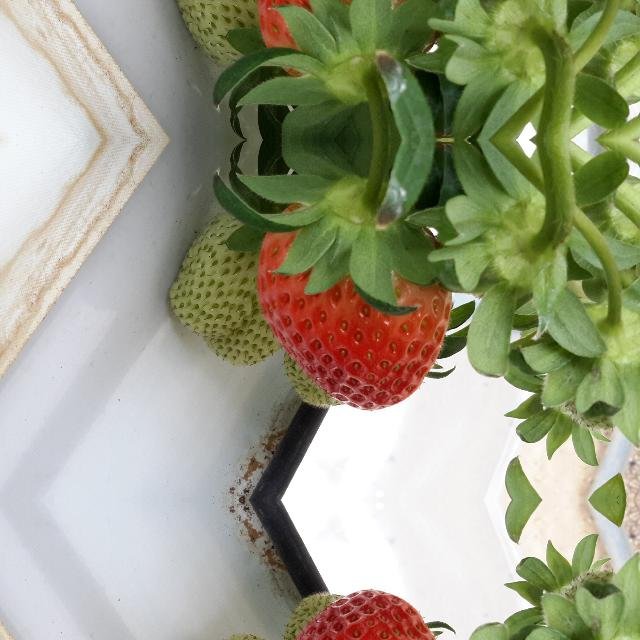Health_100: (256, 202, 452, 410), (256, 0, 451, 78), (256, 590, 451, 640)
Health_25: (170, 205, 284, 368), (169, 0, 284, 75)
